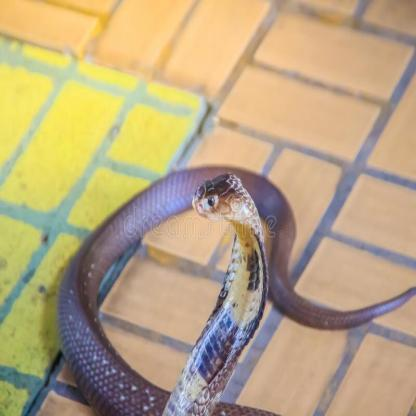Snake: (50, 154, 311, 416)
